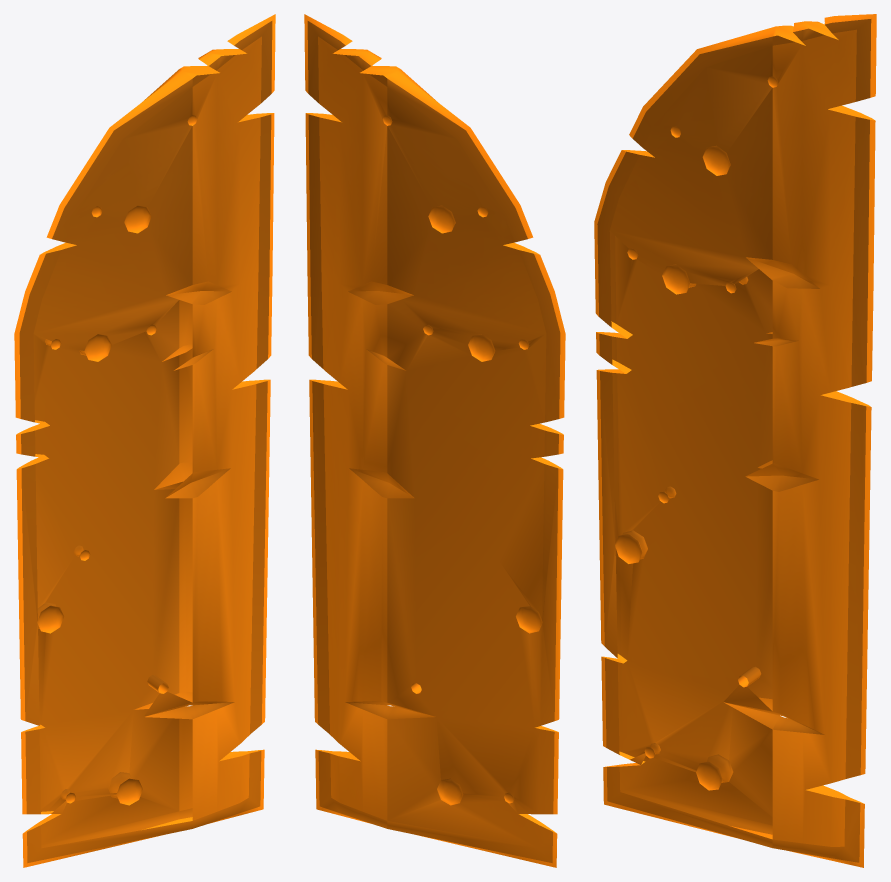
Rendered from bronze_blade_bubbles_034.glb.
3 renders of one model, left to right at view 1: azimuth 30°, elevation 25°; view 2: azimuth 150°, elevation 25°; view 3: azimuth 330°, elevation 25°, orthographic. The views are drawn at different scales.
Parts seen in each view (by area): view 1: bronze_blade_bubbles.034; view 2: bronze_blade_bubbles.034; view 3: bronze_blade_bubbles.034.
Part boxes in pixels (<box>): bronze_blade_bubbles.034: <box>14,14,275,867</box>; bronze_blade_bubbles.034: <box>304,14,565,867</box>; bronze_blade_bubbles.034: <box>594,14,876,867</box>.
Size of the model in its own units: 4.15 by 12.06 by 0.3631.
Materials: 1 (1 with a texture image).
